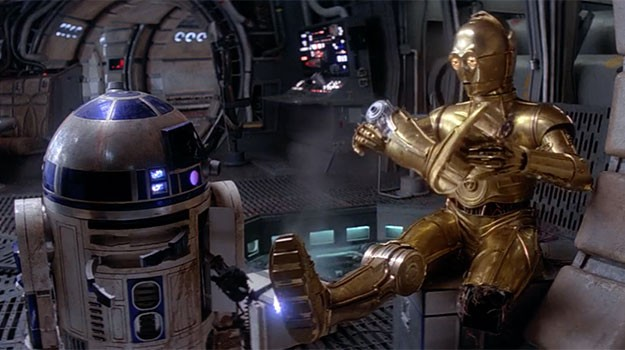r2d2: (13, 81, 244, 350)
